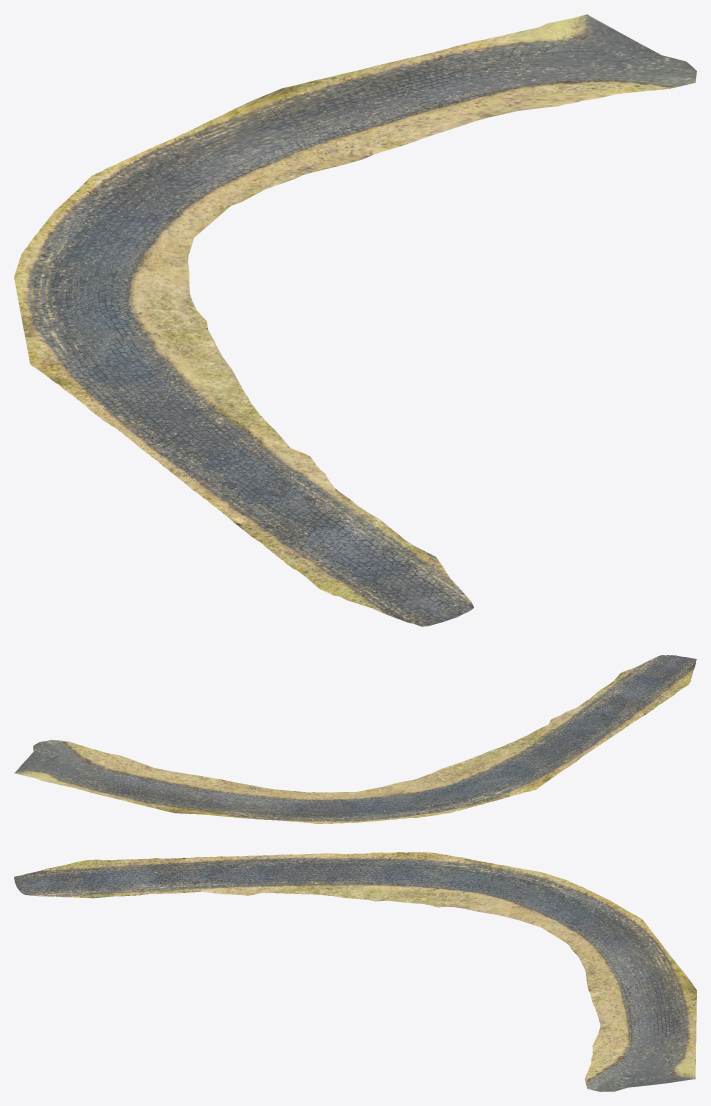
File: bekkur_til_modur_jordu.obj
The picture shows the model from 3 angles, top to bottom: view 1: azimuth 30°, elevation 25°; view 2: azimuth 150°, elevation 25°; view 3: azimuth 270°, elevation 25°; orthographic projection. The views are drawn at different scales.
Parts seen in each view (by area): view 1: Object; view 2: Object; view 3: Object.
Boxes of the visible parts, <box> form: Object: <box>14,14,696,626</box>; Object: <box>14,655,696,823</box>; Object: <box>14,852,696,1091</box>.
Size of the model in its own units: 16.11 by 0.4734 by 19.65.
